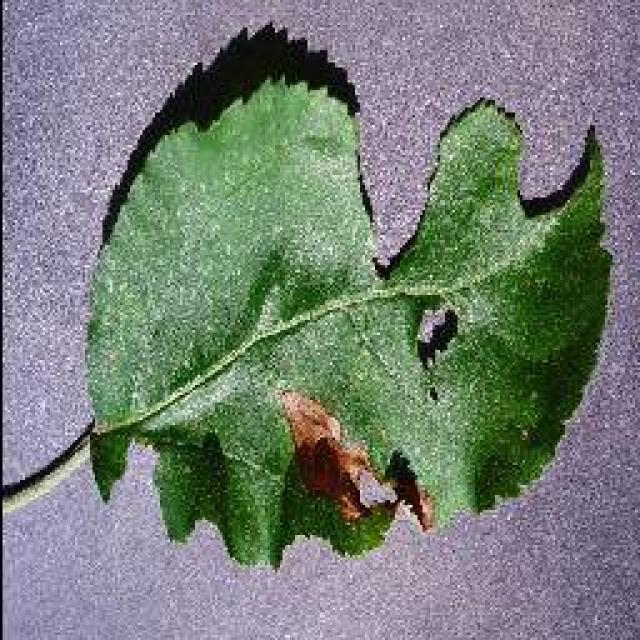Black_rot: (3, 20, 615, 570)
